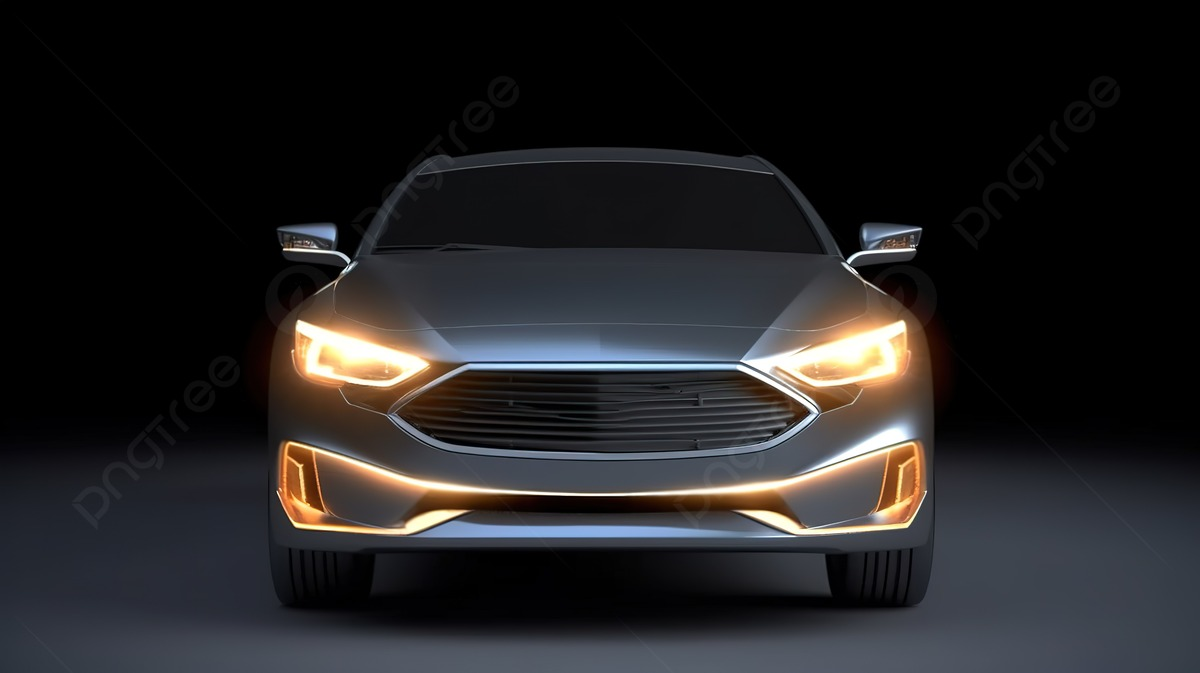car: (226, 133, 950, 595), (239, 137, 964, 595)
